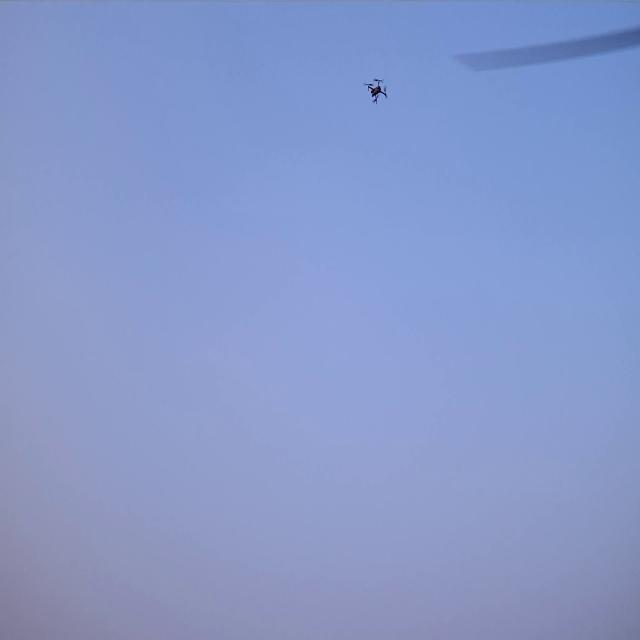UAV: (368, 79, 386, 104)
